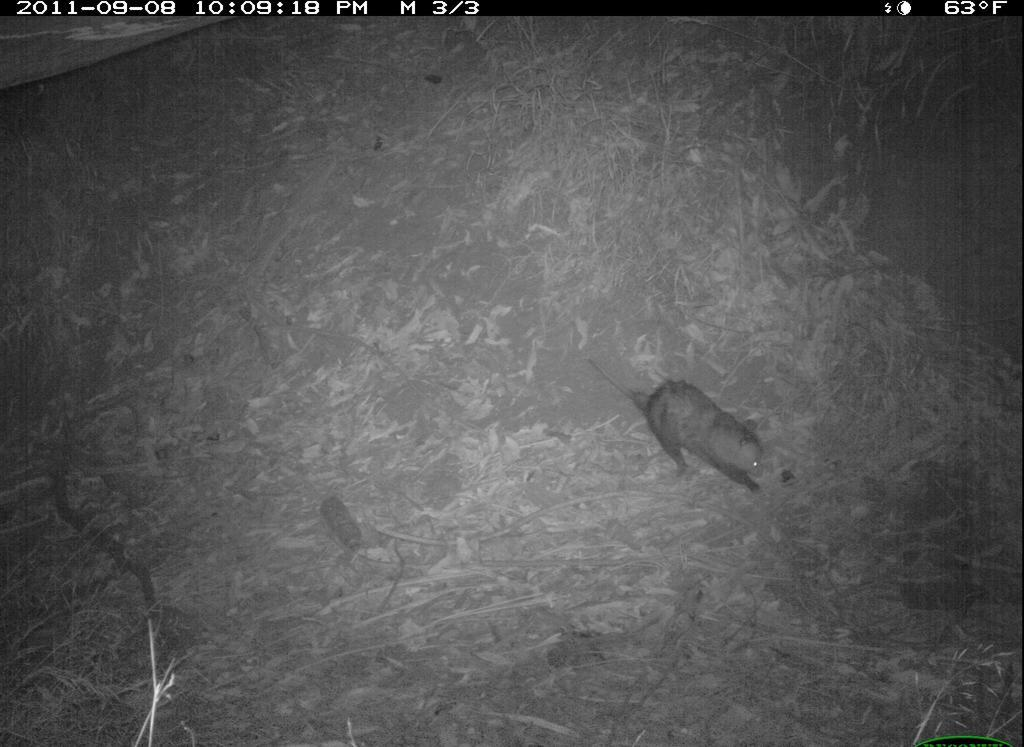opossum: (596, 355, 777, 502)
